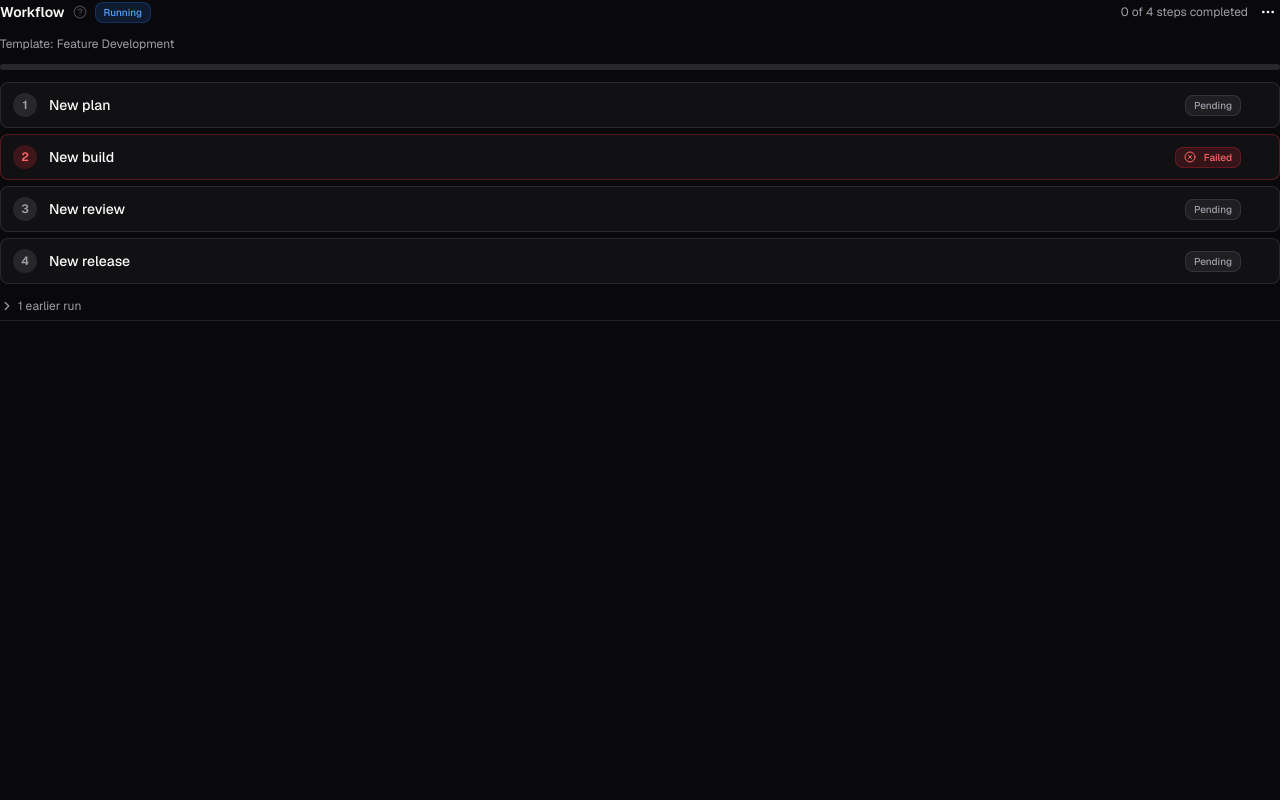
Test: TaskWorkflowSection - current run only › mentions earlier runs in the Remove confirmation
The width and height of the screenshot is (1280, 800).
Expected: the text "New plan" is shown, [49,96,110,114]
Step 1. Press the mouse on the 1st button → (1268, 12), box [1256,0,1279,24]
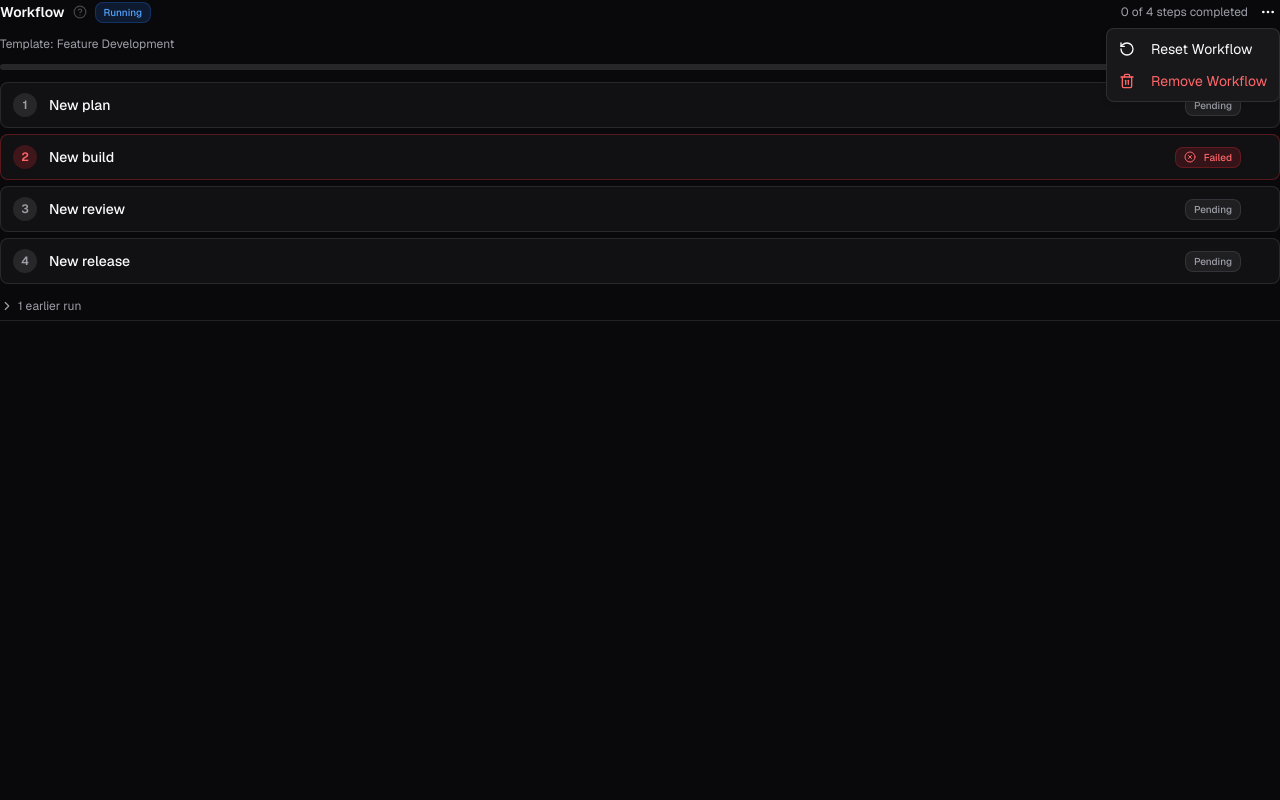
Step 2. Click the menu item "Remove Workflow" → (1193, 81), box [1119,72,1267,90]
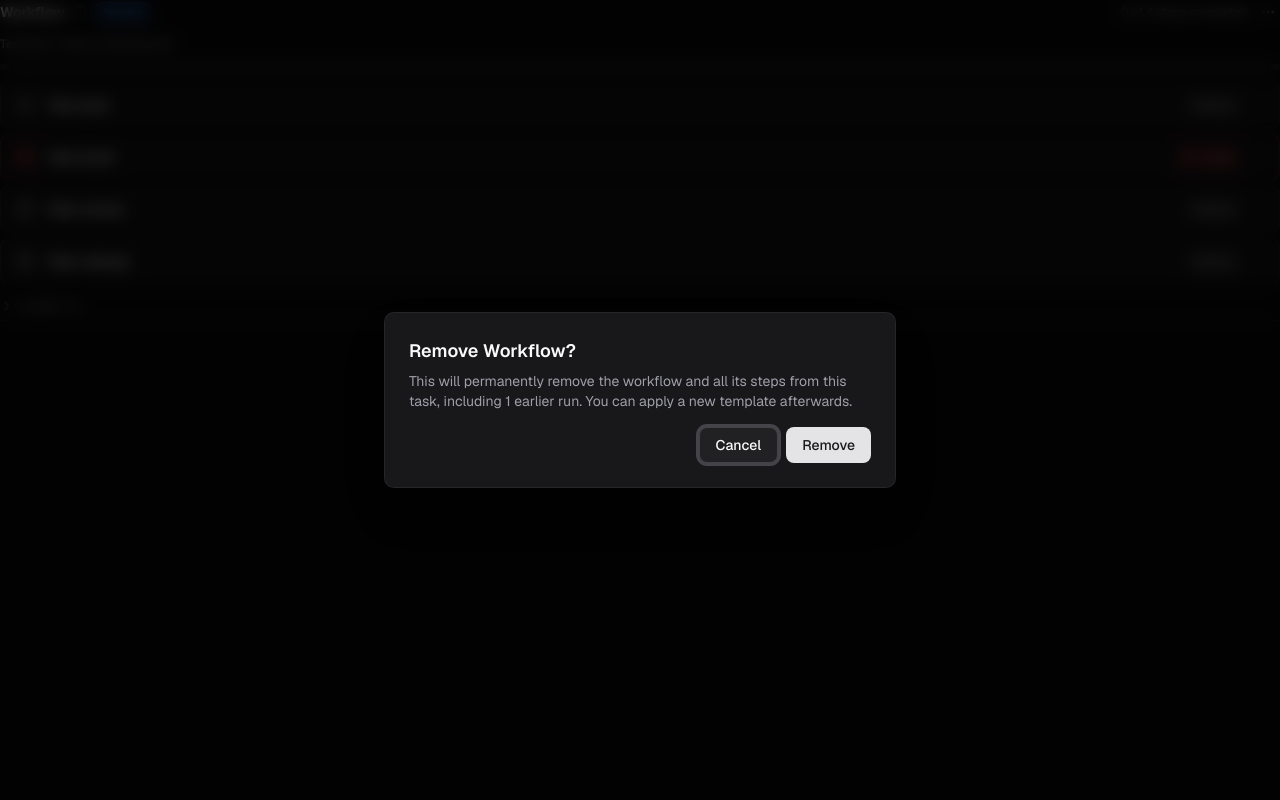
Result: the text "including 1 earlier run. You can apply" is shown at [409,371,871,411]
